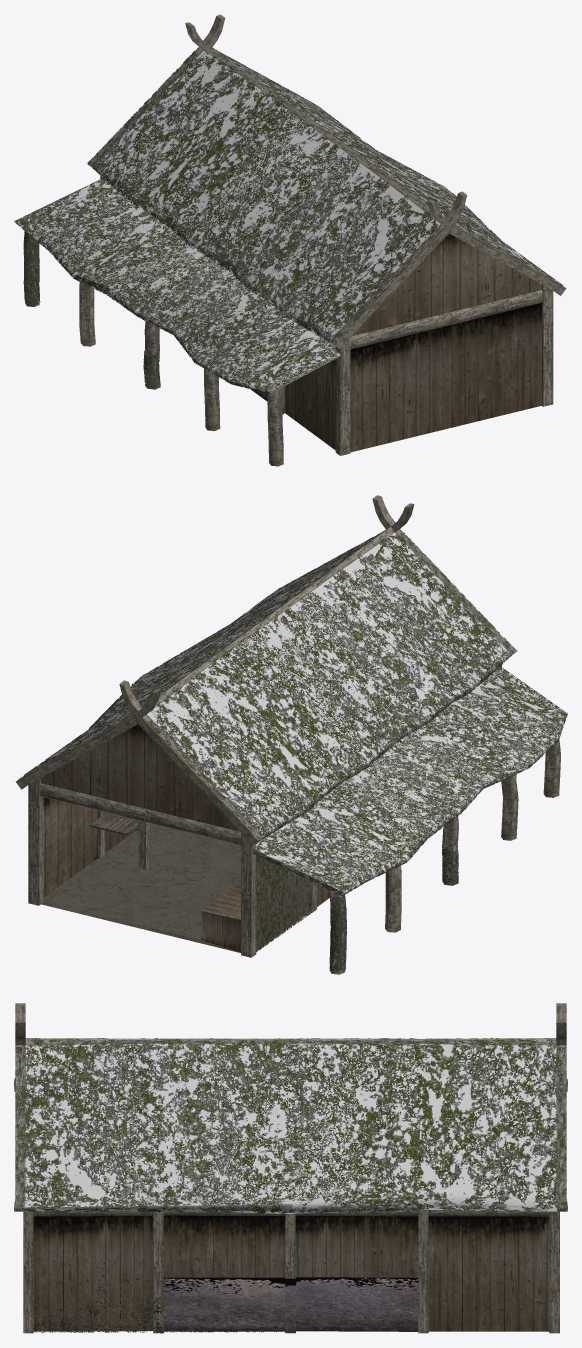
Rendered from Storehouse_LOD01.fbx.
The picture shows the model from 3 angles, top to bottom: view 1: azimuth 30°, elevation 25°; view 2: azimuth 150°, elevation 25°; view 3: azimuth 270°, elevation 25°; orthographic projection. The views are drawn at different scales.
Visible parts, largest first — view 1: Mesh Object, Mesh Object_ncl1_1; view 2: Mesh Object, Mesh Object_ncl1_1; view 3: Mesh Object, Mesh Object_ncl1_1.
Part boxes in pixels (x1,y1,x2,y2): Mesh Object: (16,14,566,466); Mesh Object_ncl1_1: (14,46,562,414); Mesh Object: (16,495,565,974); Mesh Object_ncl1_1: (19,529,567,972); Mesh Object: (14,1003,567,1333); Mesh Object_ncl1_1: (14,1037,567,1333).
Bounding box in the file's own units: 7.77 × 5.48 × 10.45.
